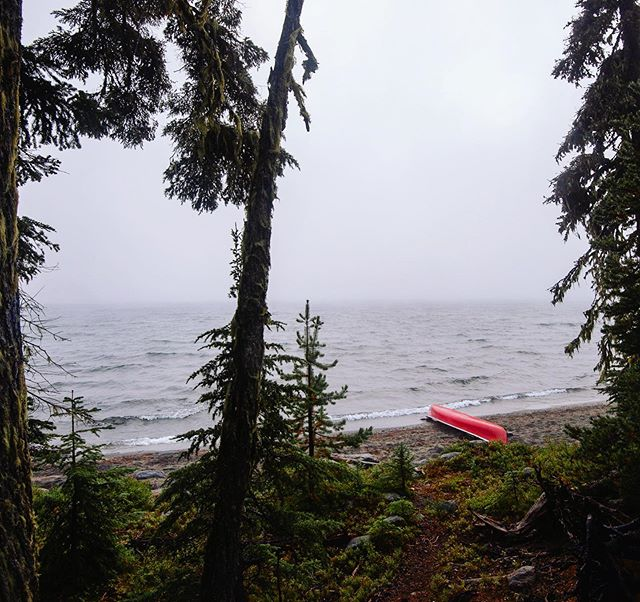boat: (425, 398, 513, 454)
sea: (36, 305, 583, 415)
sky: (29, 1, 577, 289)
tree: (557, 1, 640, 414), (25, 385, 136, 602), (278, 294, 374, 480)
